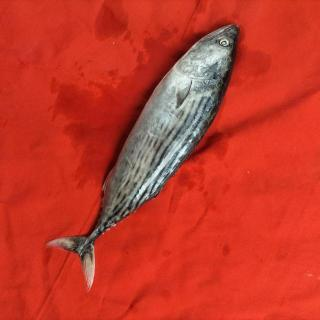Ikan: (74, 24, 247, 284)
